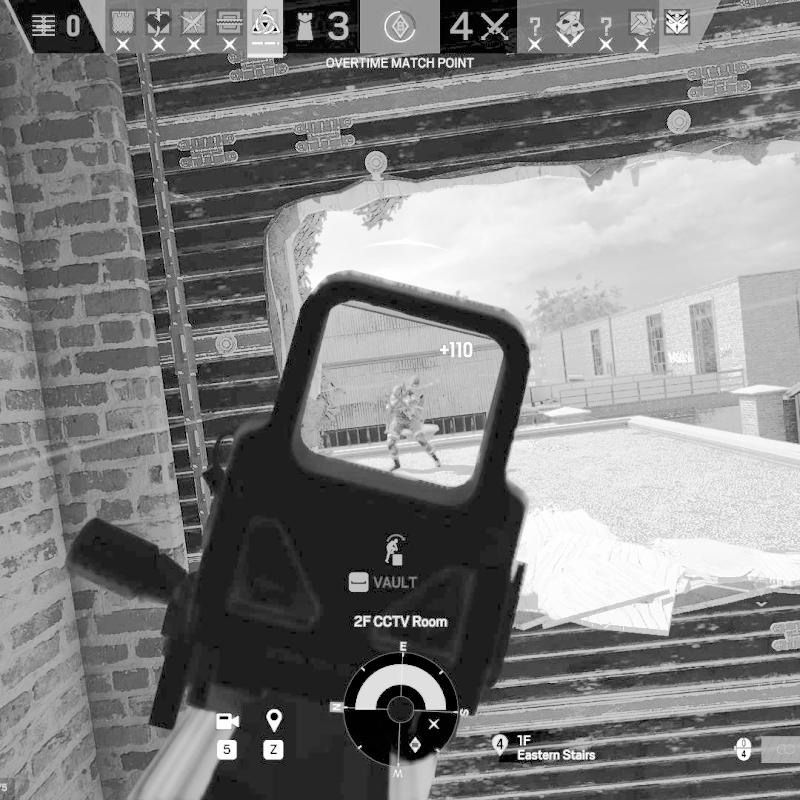Character: (385, 374, 444, 476)
Head: (409, 374, 421, 392)
